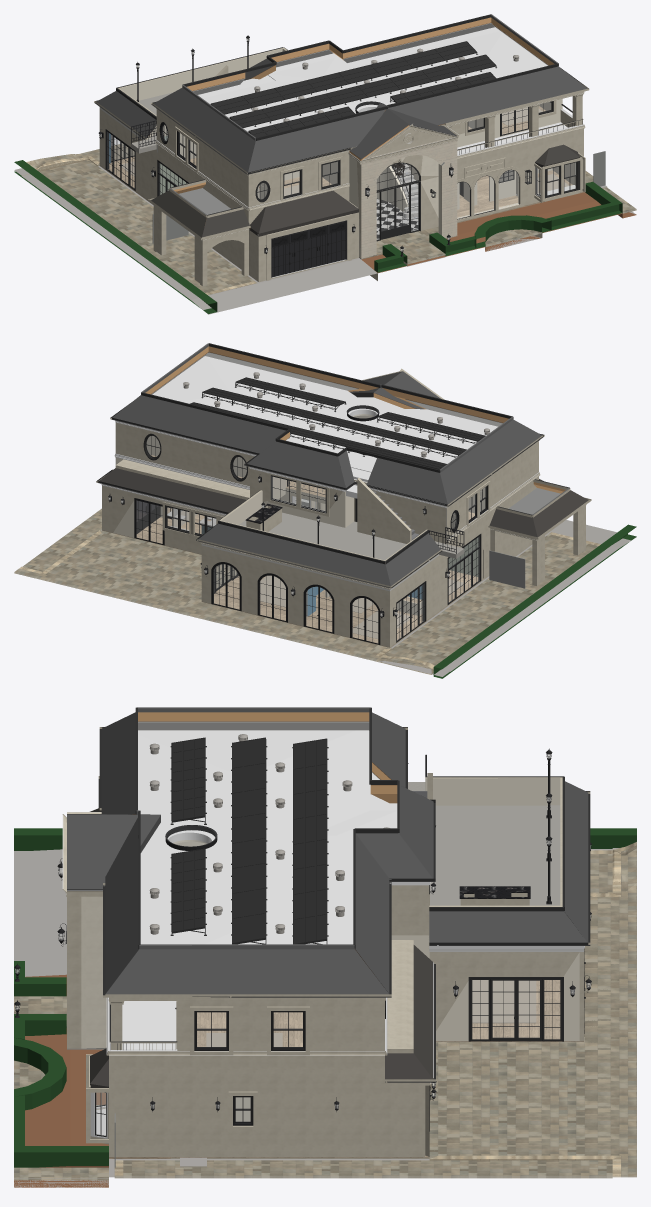
File: exterior-house-971fbddc0627.glb
3 views of the same model, one above another, from view 1: azimuth 30°, elevation 25°; view 2: azimuth 150°, elevation 25°; view 3: azimuth 270°, elevation 25° (orthographic). The views are drawn at different scales.
Parts seen in each view (by area): view 1: exterior-house-27d577fbd7f2ff4b, exterior-house-d56ee2a9d54b1fc2, exterior-house-8ae50a6395ceb8a4, exterior-house-e33d7b378dc851e2, exterior-house-0b9d5d1cd0b2c60f, exterior-house-7cf8e5cfa8b264af, exterior-house-25c3ff3929e46046, exterior-house-0cae3eb2f2d52fad, exterior-house-aee2d046b0172b1e, exterior-house-2f311b438f02a7c5, exterior-house-f9d31319fa3bf46f, exterior-house-a9e726e5451ff895 (+61 smaller); view 2: exterior-house-37d1b262fca80116, exterior-house-d56ee2a9d54b1fc2, exterior-house-27d577fbd7f2ff4b, exterior-house-969b861f9850351e, exterior-house-c91f911e25c8cae7, exterior-house-5febae1537653d02, exterior-house-3b0077416469e01b, exterior-house-3763e2fb8578d282, exterior-house-8ae50a6395ceb8a4, exterior-house-0cae3eb2f2d52fad, exterior-house-ded88bd99590d377, exterior-house-0b9d5d1cd0b2c60f (+50 smaller); view 3: exterior-house-37d1b262fca80116, exterior-house-d56ee2a9d54b1fc2, exterior-house-a75a0c9c223328ee, exterior-house-ded88bd99590d377, exterior-house-af97eba351c411ae, exterior-house-2c1fd33d433632d0, exterior-house-8ae50a6395ceb8a4, exterior-house-0b9d5d1cd0b2c60f, exterior-house-7cf8e5cfa8b264af, exterior-house-e706aa16b4547c37, exterior-house-adb6f49a6d2cbec3, exterior-house-3d5fbc3a2a5f9c05 (+51 smaller).
Part boxes in pixels (x1,y1,x2,y2): exterior-house-27d577fbd7f2ff4b: (39,159,256,294); exterior-house-d56ee2a9d54b1fc2: (203,31,547,131); exterior-house-8ae50a6395ceb8a4: (14,166,607,314); exterior-house-e33d7b378dc851e2: (388,66,586,125); exterior-house-0b9d5d1cd0b2c60f: (229,54,496,127); exterior-house-7cf8e5cfa8b264af: (210,41,477,114); exterior-house-25c3ff3929e46046: (248,109,385,172); exterior-house-0cae3eb2f2d52fad: (153,87,255,172); exterior-house-aee2d046b0172b1e: (361,192,636,273); exterior-house-2f311b438f02a7c5: (271,220,346,277); exterior-house-f9d31319fa3bf46f: (369,138,449,256); exterior-house-a9e726e5451ff895: (258,190,358,236); exterior-house-37d1b262fca80116: (14,530,434,674); exterior-house-d56ee2a9d54b1fc2: (152,356,497,472); exterior-house-27d577fbd7f2ff4b: (384,532,600,665); exterior-house-969b861f9850351e: (201,546,387,646); exterior-house-c91f911e25c8cae7: (112,395,285,453); exterior-house-5febae1537653d02: (199,523,390,586); exterior-house-3b0077416469e01b: (102,507,474,647); exterior-house-3763e2fb8578d282: (116,422,254,486); exterior-house-8ae50a6395ceb8a4: (14,520,636,676); exterior-house-0cae3eb2f2d52fad: (440,419,541,504); exterior-house-ded88bd99590d377: (239,512,446,560); exterior-house-0b9d5d1cd0b2c60f: (201,387,466,457); exterior-house-37d1b262fca80116: (429,842,636,1177); exterior-house-d56ee2a9d54b1fc2: (138,730,397,944); exterior-house-a75a0c9c223328ee: (106,949,388,994); exterior-house-ded88bd99590d377: (430,805,560,905); exterior-house-af97eba351c411ae: (295,1069,425,1156); exterior-house-2c1fd33d433632d0: (114,1160,612,1178); exterior-house-8ae50a6395ceb8a4: (14,848,636,1177); exterior-house-0b9d5d1cd0b2c60f: (231,737,267,944); exterior-house-7cf8e5cfa8b264af: (292,738,328,944); exterior-house-e706aa16b4547c37: (429,952,579,1041); exterior-house-adb6f49a6d2cbec3: (177,1001,384,1050); exterior-house-3d5fbc3a2a5f9c05: (468,977,563,1041).
Size of the model in its own units: 28 by 8.45 by 22.
Materials: 94 (23 with a texture image).
